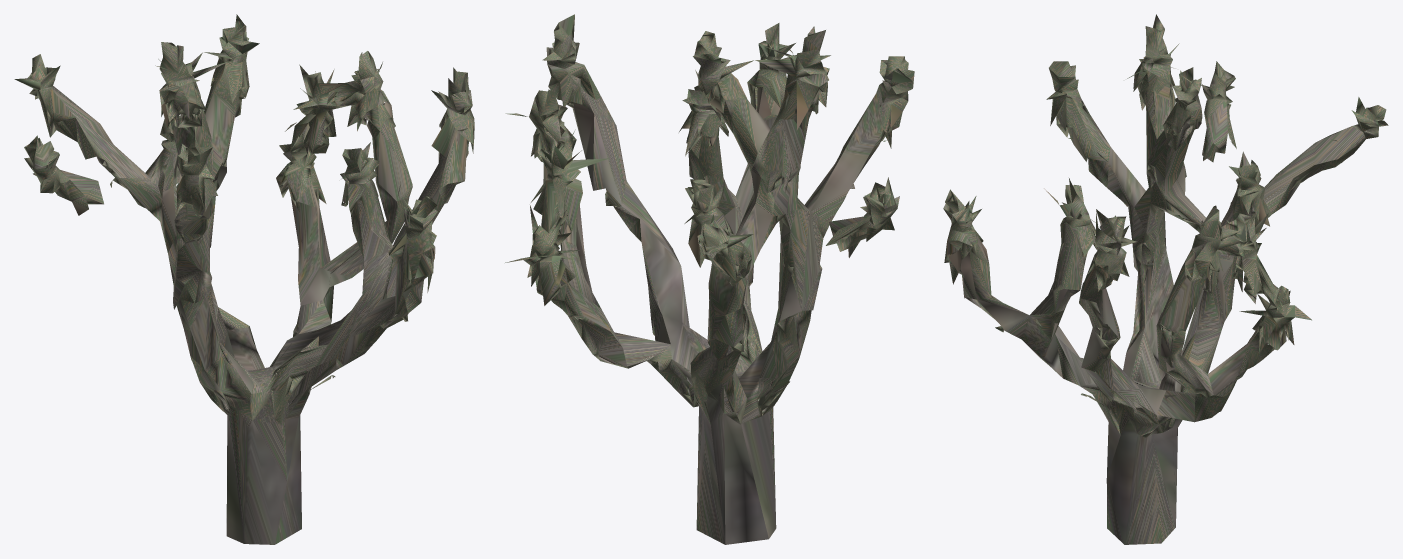
File: desert-plants-joshua-tree.glb
3 views of the same model, side by side, from view 1: azimuth 30°, elevation 25°; view 2: azimuth 150°, elevation 25°; view 3: azimuth 270°, elevation 25° (orthographic). The views are drawn at different scales.
Visible parts, largest first — view 1: world; view 2: world; view 3: world.
Boxes of the visible parts, x1=… form: world: x1=14, y1=14, x2=474, y2=544; world: x1=505, y1=14, x2=914, y2=544; world: x1=943, y1=14, x2=1388, y2=544.
Size of the model in its own units: 0.7862 by 0.9818 by 0.836.
1 material, 1 textured.
